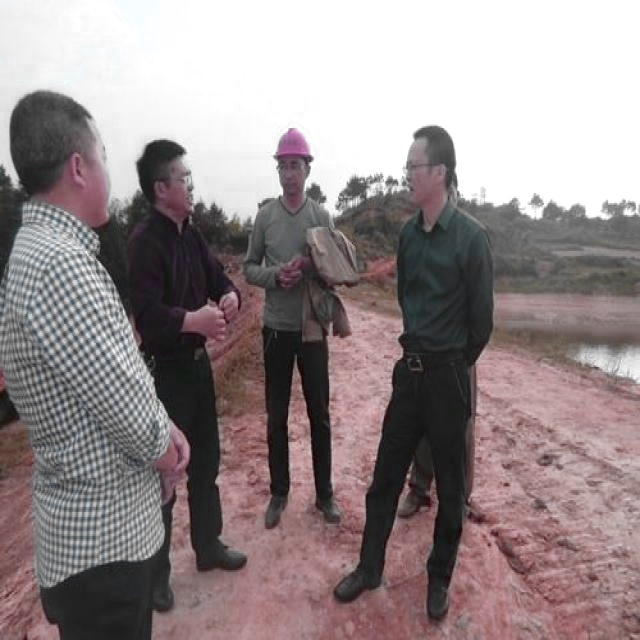Con_Casco: (270, 127, 319, 193)
Sin_Casco_Mascarrilla: (6, 86, 111, 218), (402, 127, 457, 212), (135, 143, 201, 213)
